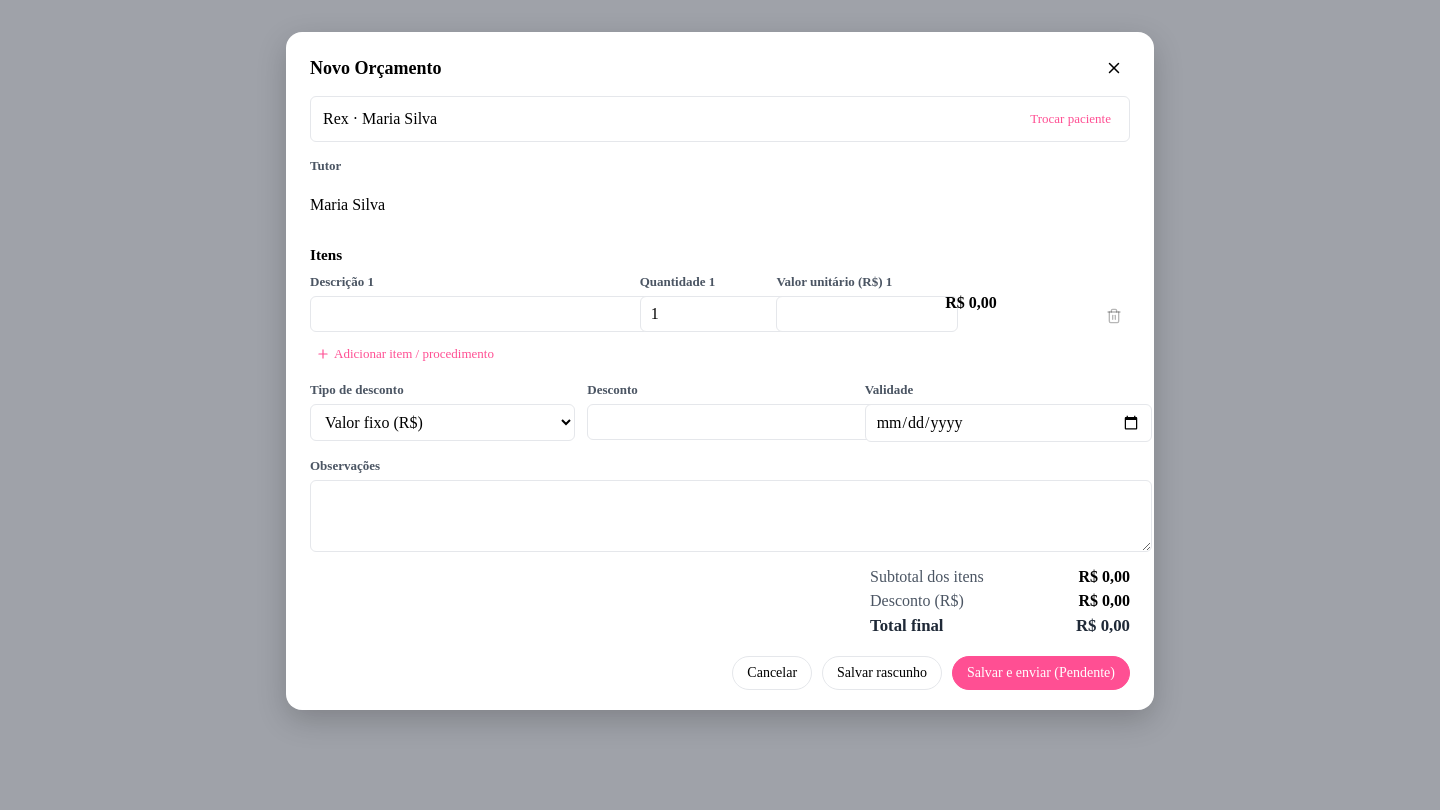
Test case: NewBudgetModal › carrega o paciente e o tutor informados e adiciona ou remove linhas, sem remover a última
Expected: the text "Maria Silva" is shown, [310, 196, 385, 213]
Expected: the button named "Remover item 1" is disabled, [1098, 300, 1130, 332]
Click the button "Adicionar item / procedimento" at coordinates (414, 354), box [310, 342, 1130, 366]
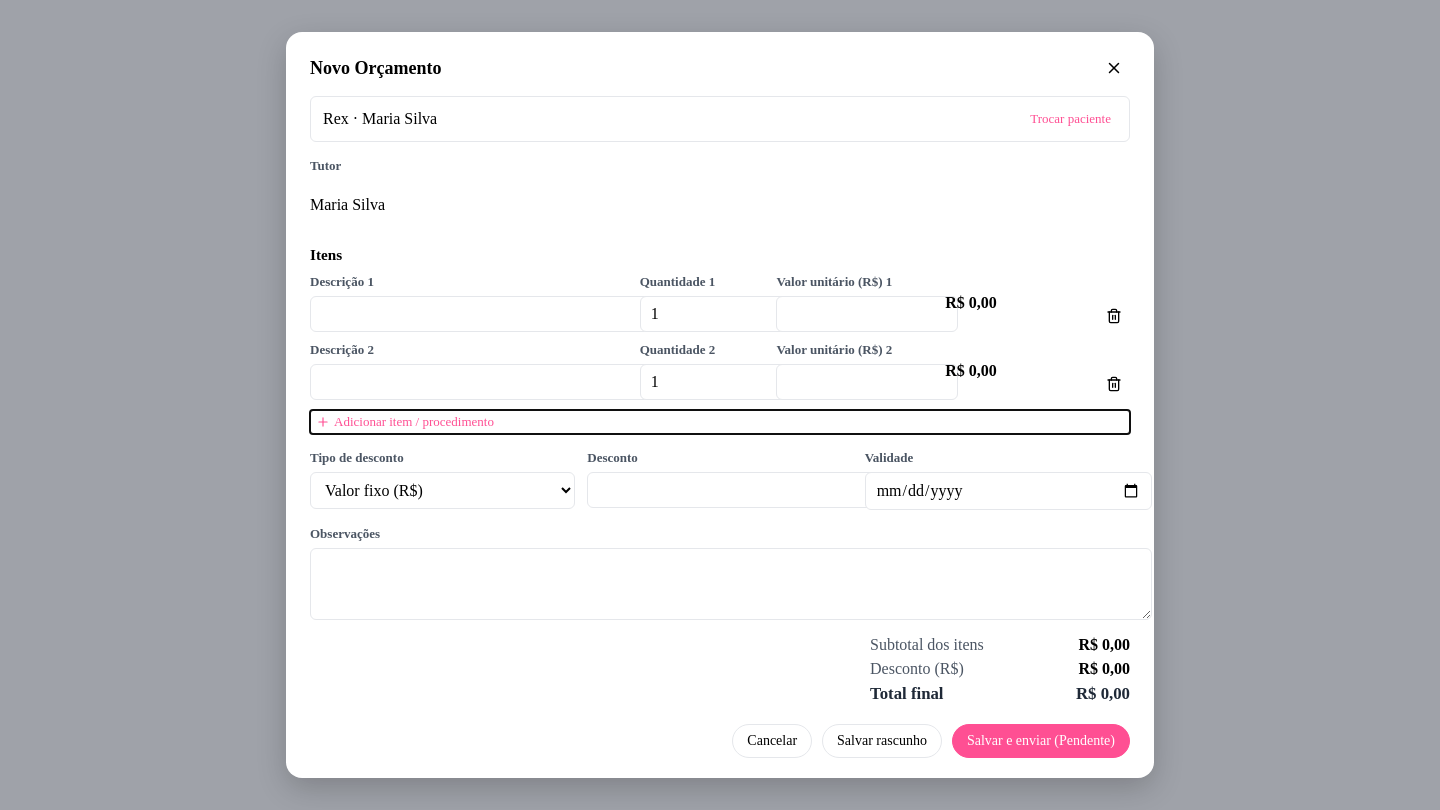
Expected: the field named "Descrição do item 2" is shown, [310, 364, 654, 400]
Click the button named "Remover item 2" at coordinates (1114, 384), box [1098, 368, 1130, 400]
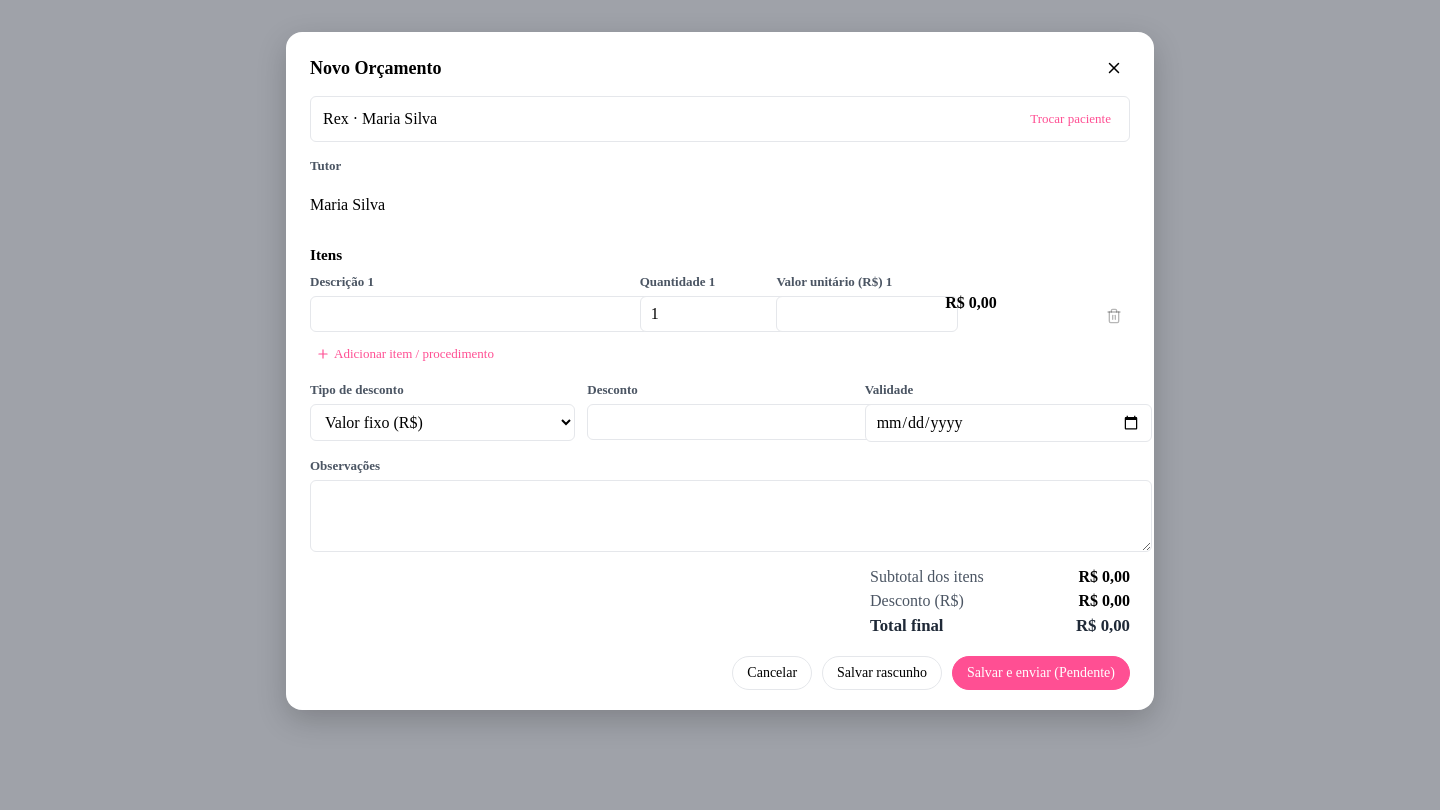
Expected: the button named "Remover item 1" is disabled, [1098, 300, 1130, 332]
